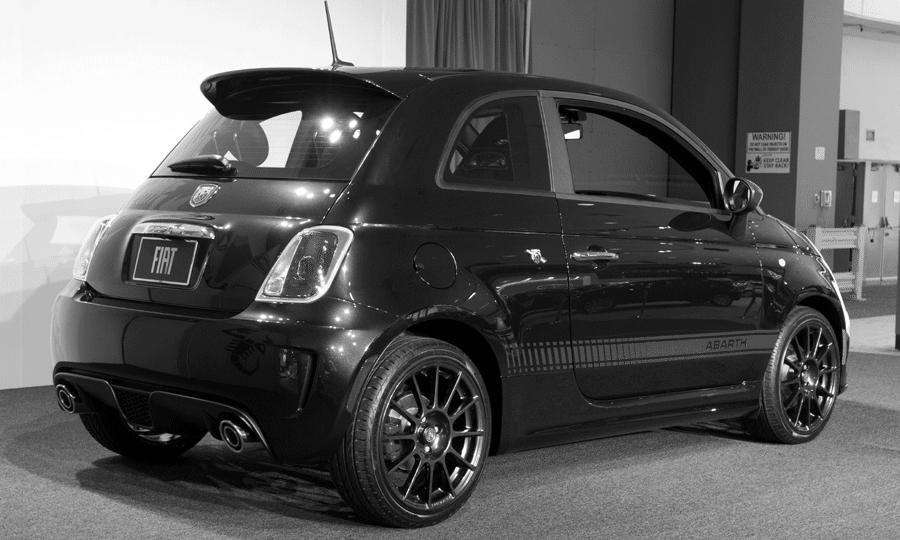car: (54, 1, 849, 530)
